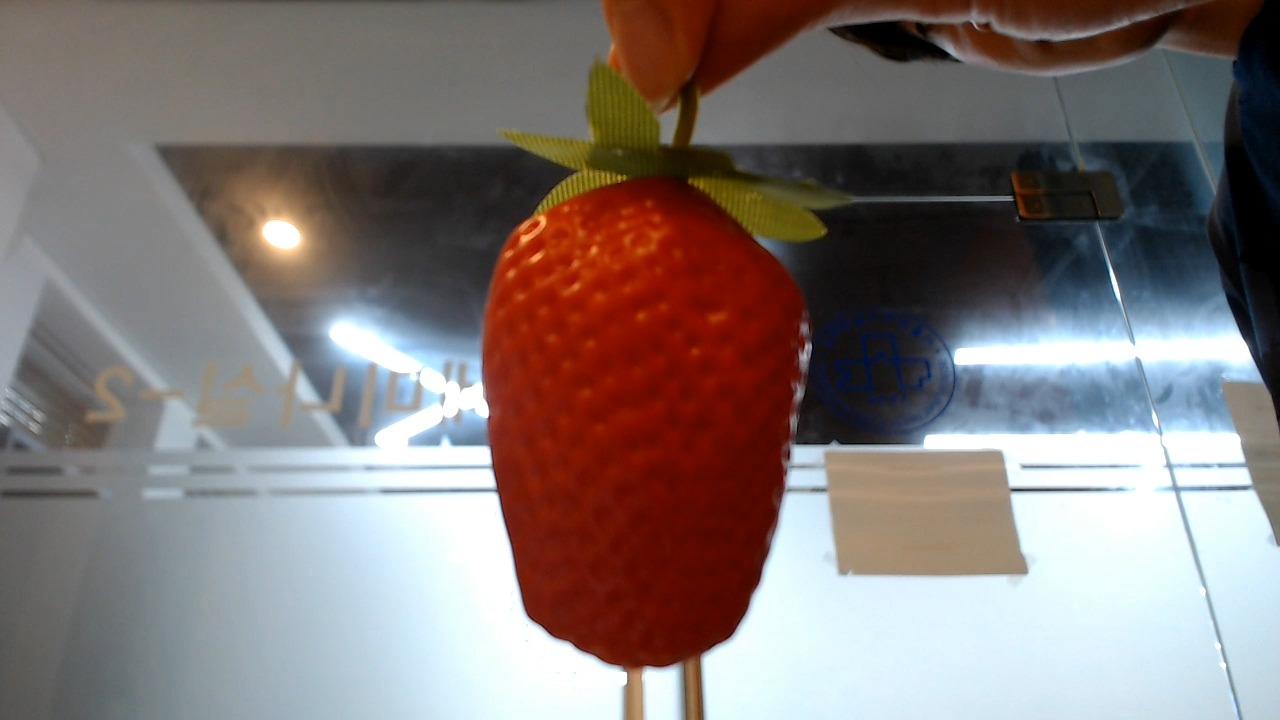strawberry: (466, 106, 851, 671)
